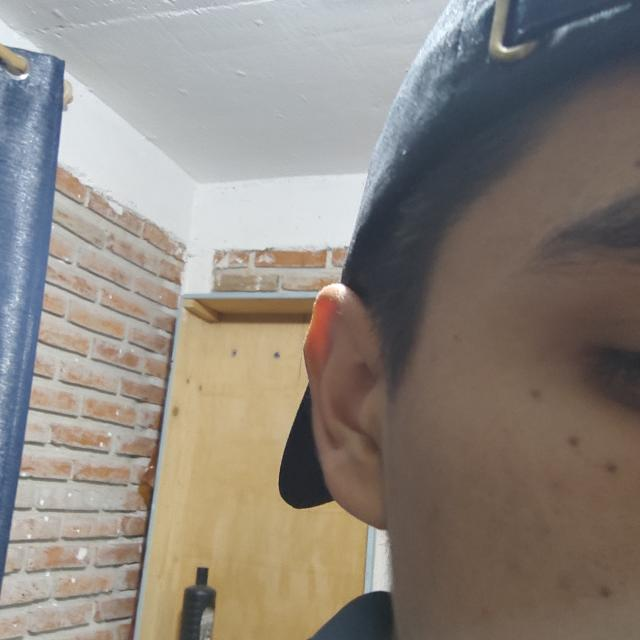ear: (304, 284, 389, 529)
